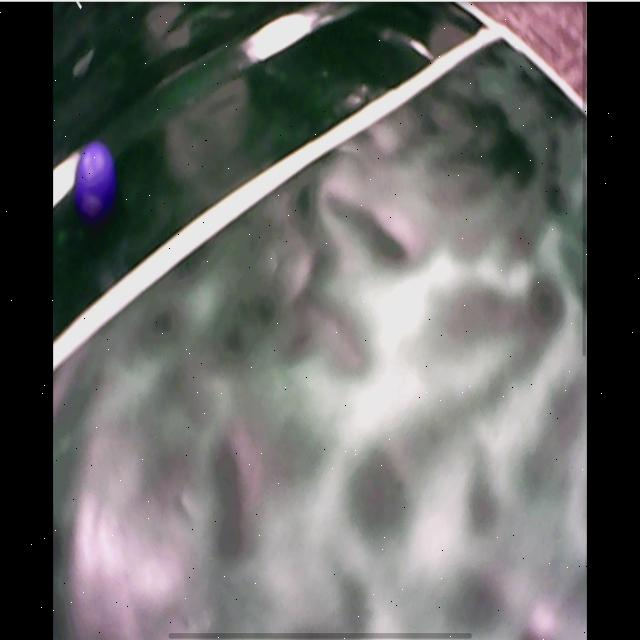ball: (75, 143, 116, 212)
